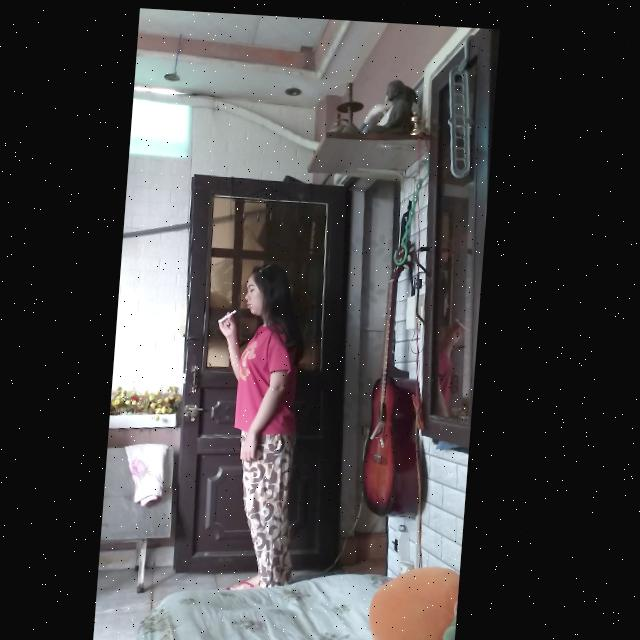cigarette: (222, 306, 241, 321)
